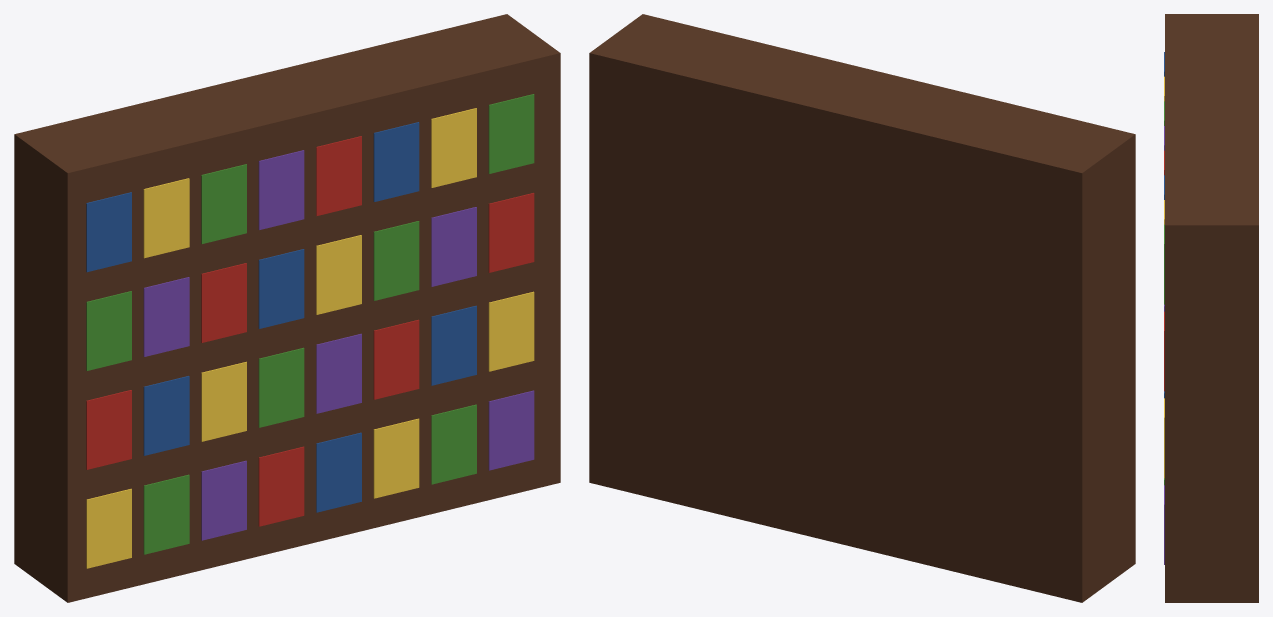
The model's file is elem_bookshelf_3.glb.
3 views of the same model, side by side, from view 1: azimuth 30°, elevation 25°; view 2: azimuth 150°, elevation 25°; view 3: azimuth 270°, elevation 25° (orthographic). The views are drawn at different scales.
Parts seen in each view (by area): view 1: Box1, Box27, Box7, Box9, Box11, Box13, Box15, Box19, Box21, Box23, Box25, Box31 (+21 smaller); view 2: Box1; view 3: Box1.
Boxes of the visible parts, x1,y1,x2,y2 form: Box1: (14,14,560,602); Box27: (143,178,189,258); Box7: (373,418,419,498); Box9: (488,390,534,470); Box11: (143,376,189,455); Box13: (258,347,304,427); Box15: (373,319,419,399); Box19: (143,277,189,356); Box21: (258,249,304,328); Box23: (373,221,419,300); Box25: (488,193,534,272); Box31: (373,122,419,201); Box1: (589,14,1135,602); Box1: (1165,14,1258,602).
Bounding box in the file's own units: 2.4 × 2 × 0.455.
